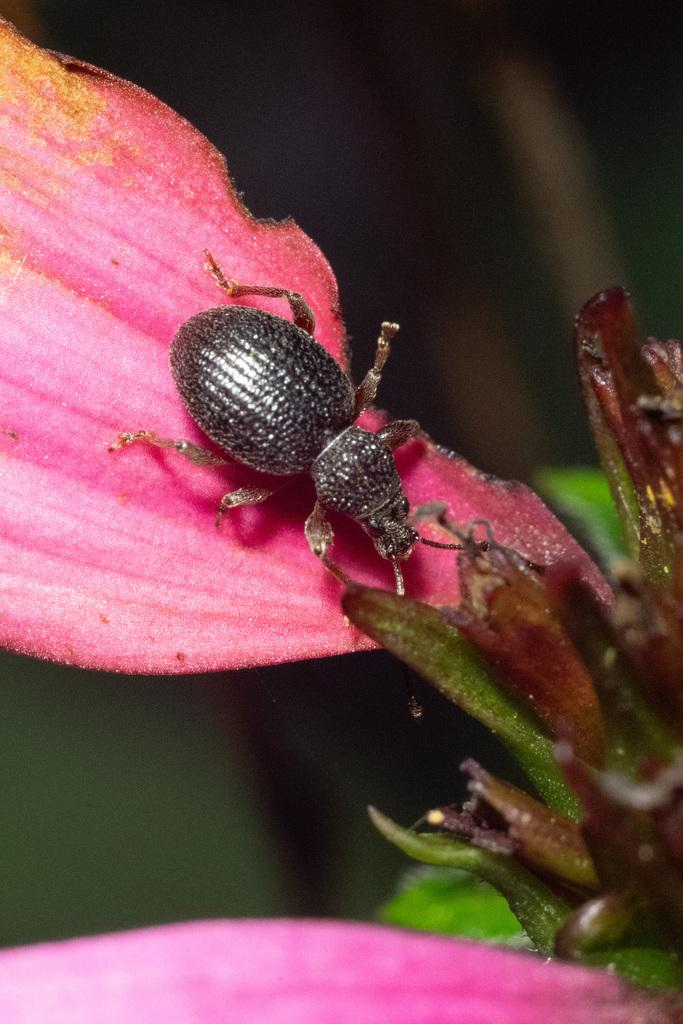weevils: (63, 214, 537, 649)
